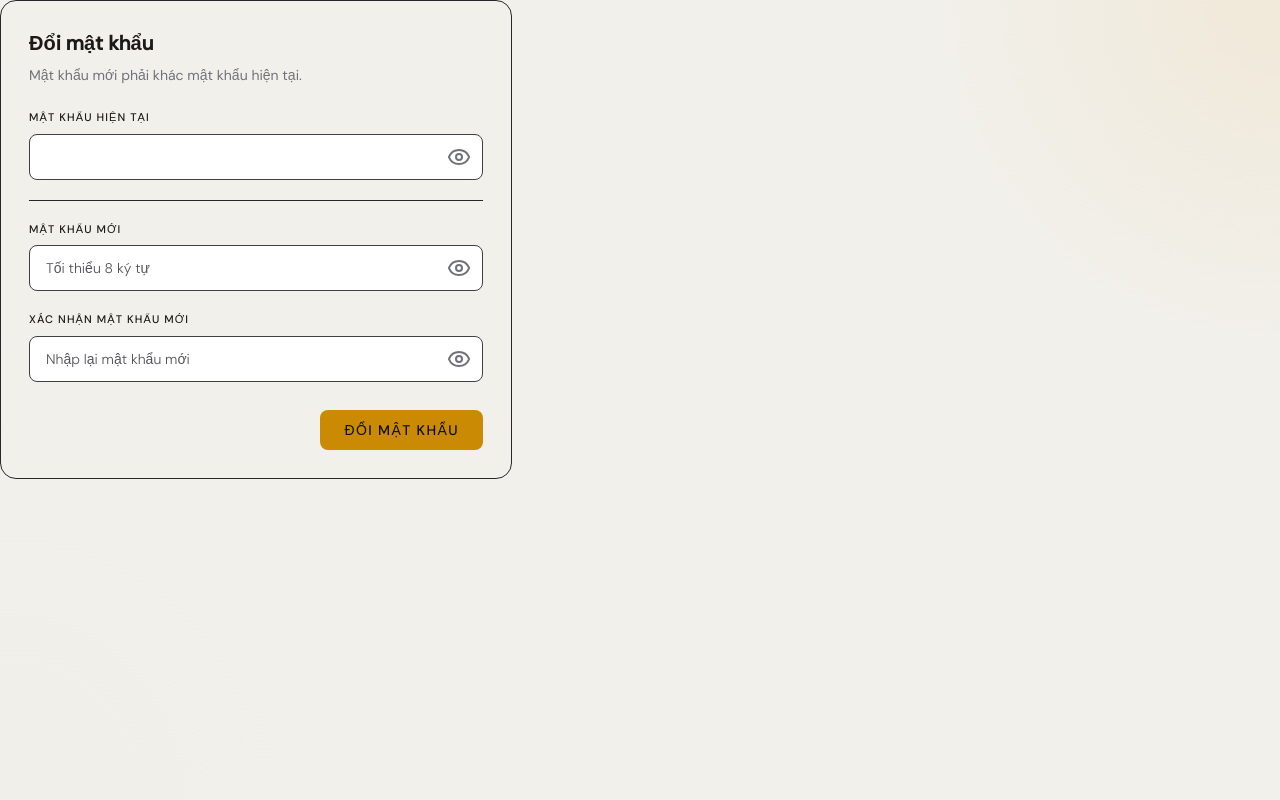
Test: ChangePasswordForm › should show required errors when submitting empty form
This screenshot has width=1280, height=800.
What coordinates should you click on to do the following:
click the button "Đổi mật khẩu"
I would click on:
 (402, 430)
Its box is [320,410,483,450].
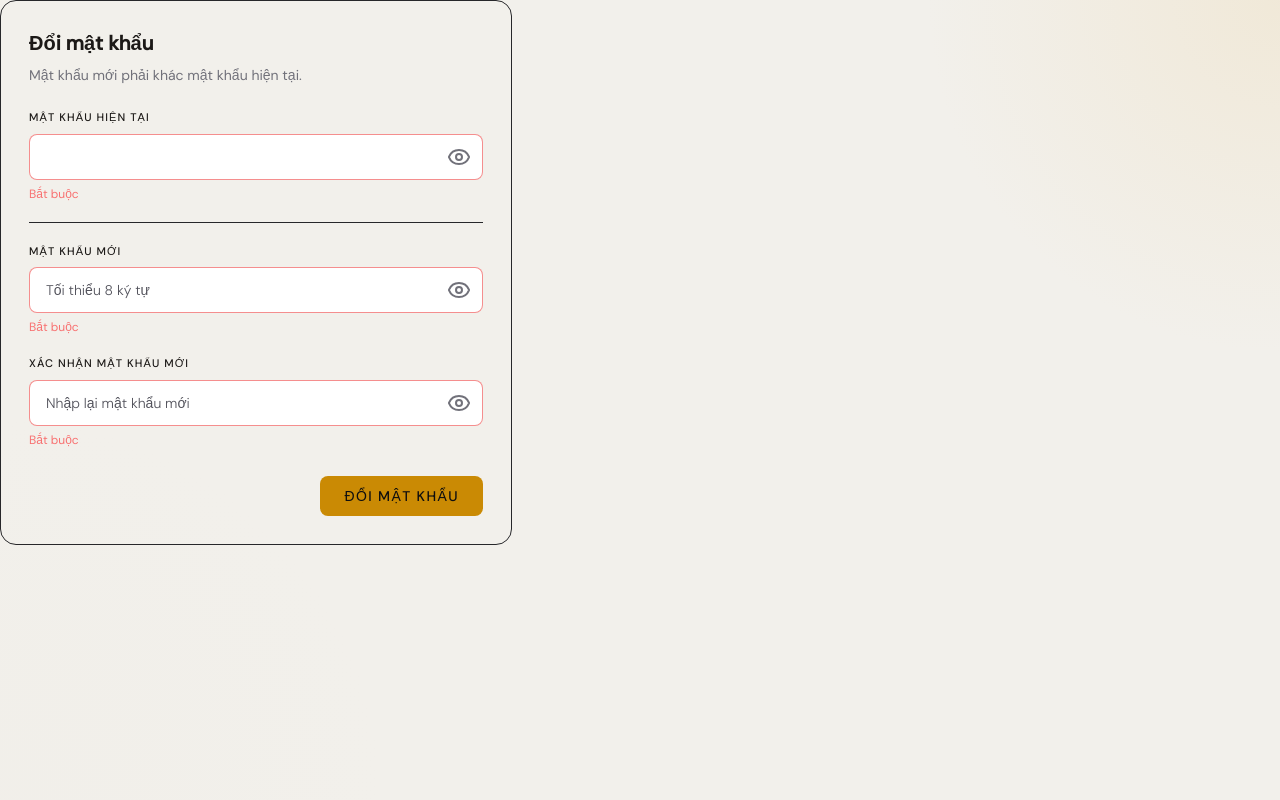
Now the text "Bắt buộc" is shown 3 times, box [29,186,79,202]; [29,319,79,335]; [29,432,79,448]
